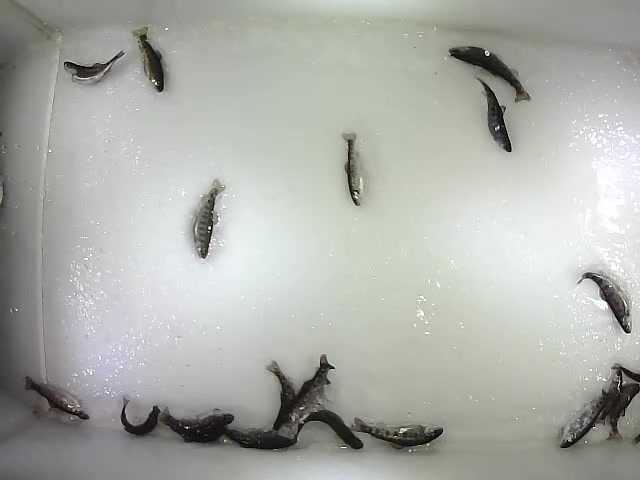fish: (447, 44, 533, 105), (284, 353, 337, 431), (576, 267, 634, 335), (349, 415, 446, 450), (556, 389, 611, 450), (472, 75, 514, 154), (24, 375, 92, 421), (190, 177, 227, 261), (296, 407, 365, 451), (130, 25, 167, 95), (265, 358, 298, 432), (158, 406, 236, 436), (63, 49, 126, 86), (340, 131, 367, 208), (606, 381, 640, 442), (119, 396, 163, 437), (222, 428, 298, 451), (595, 368, 623, 426)
